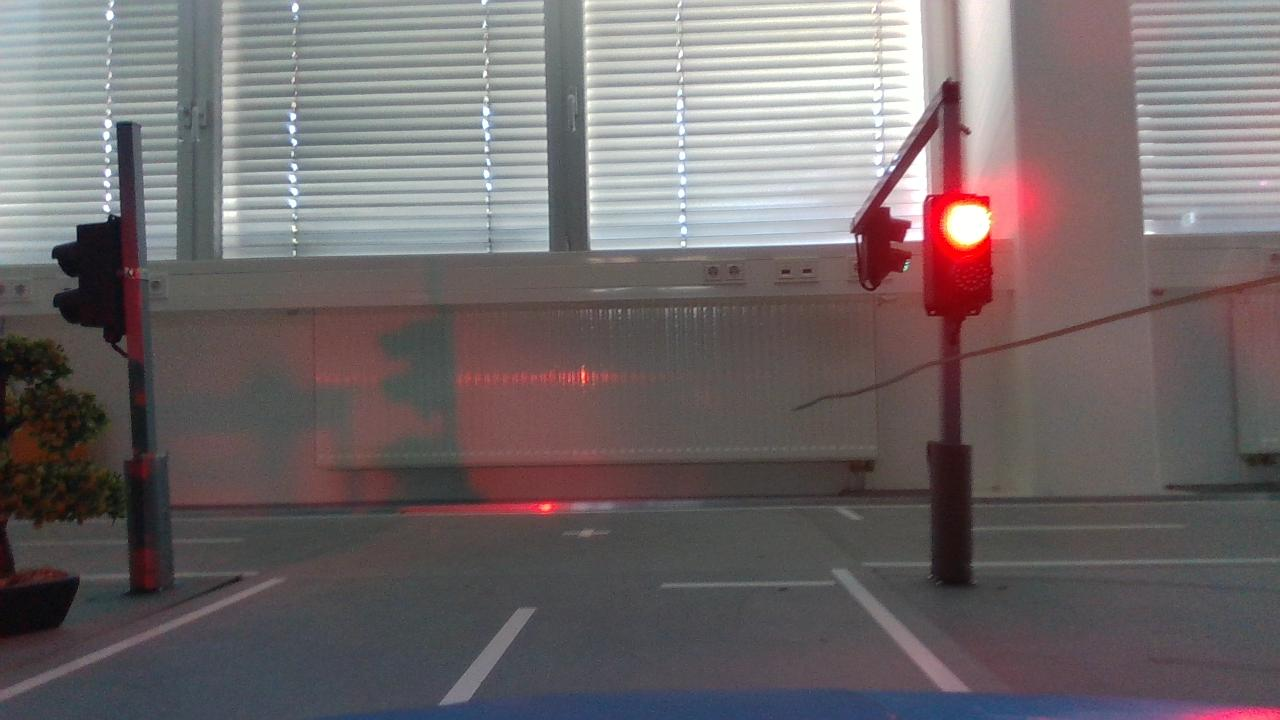traffic_light_red: (910, 181, 1005, 335)
